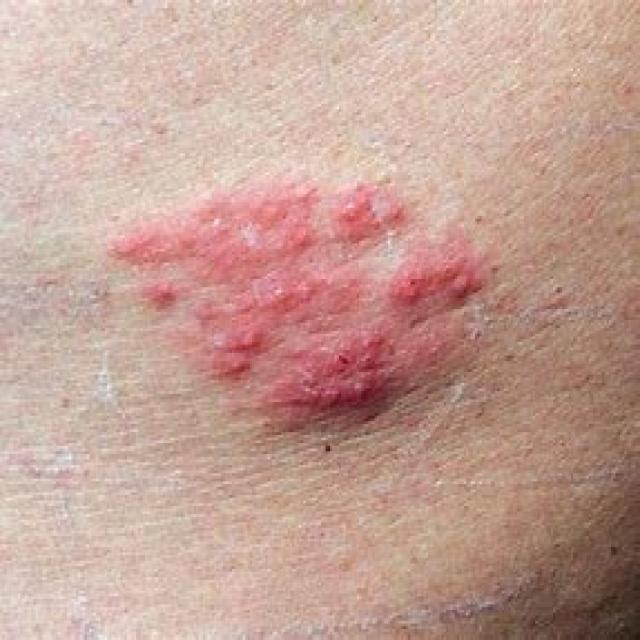Shingles: (105, 168, 490, 420)
